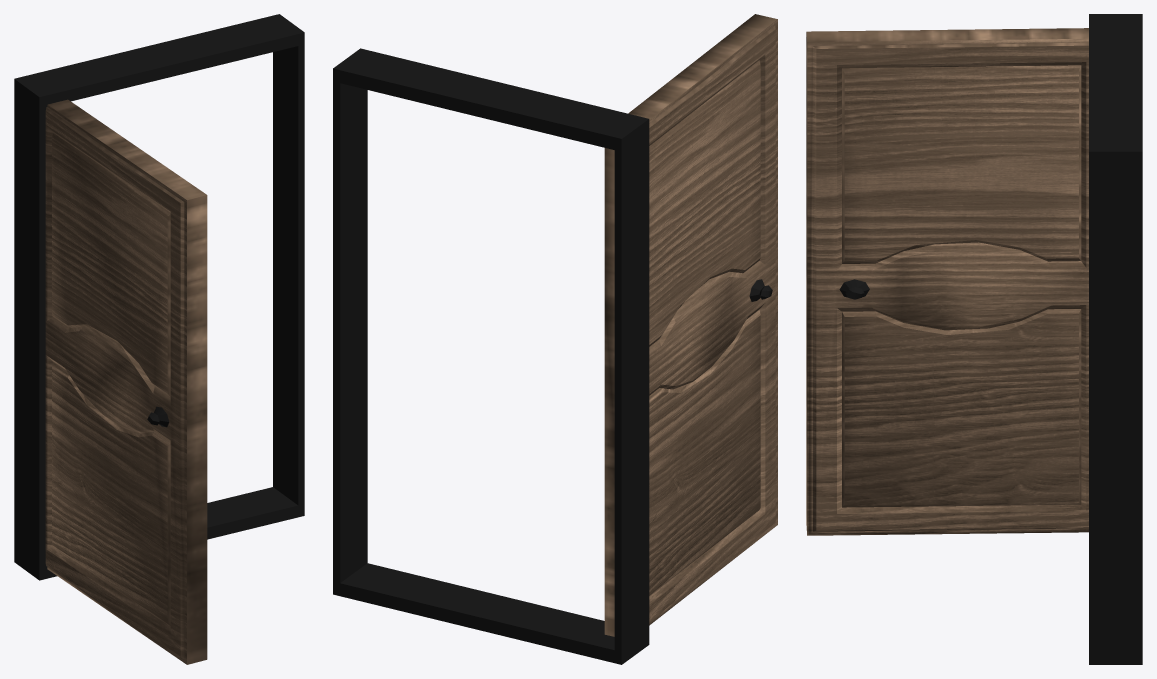
Rendered from drzwiOP.obj.
The picture shows the model from 3 angles, left to right: view 1: azimuth 30°, elevation 25°; view 2: azimuth 150°, elevation 25°; view 3: azimuth 270°, elevation 25°; orthographic projection. The views are drawn at different scales.
Visible parts, largest first — view 1: Door_4.001_Cube.001, Kostka.017; view 2: Door_4.001_Cube.001, Kostka.017; view 3: Door_4.001_Cube.001, Kostka.017.
Boxes of the visible parts, x1,y1,x2,y2 form: Door_4.001_Cube.001: (45,99,207,664); Kostka.017: (14,14,304,580); Door_4.001_Cube.001: (604,14,777,636); Kostka.017: (333,48,649,664); Door_4.001_Cube.001: (806,28,1088,535); Kostka.017: (1089,14,1142,664).
Size of the model in its own units: 0.7425 by 1.29 by 0.7659.
